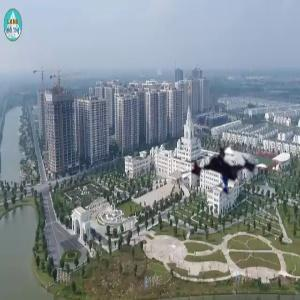drone: (181, 135, 277, 231)
